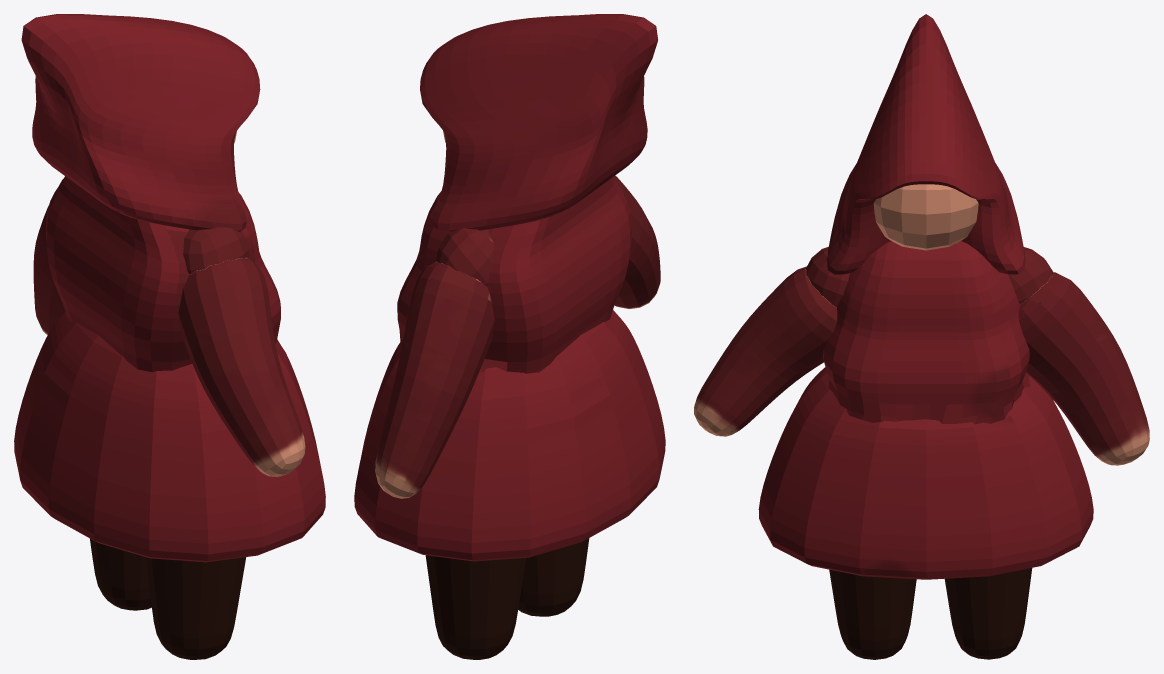
The model's file is MOŽIC .glb.
3 views of the same model, side by side, from view 1: azimuth 30°, elevation 25°; view 2: azimuth 150°, elevation 25°; view 3: azimuth 270°, elevation 25° (orthographic). The views are drawn at different scales.
Visible parts, largest first — view 1: telo, leva roka, leva noga, noga desna, desna roka; view 2: telo, desna roka, noga desna, leva noga, leva roka; view 3: telo, desna roka, leva roka, noga desna, leva noga.
Part boxes in pixels (<box>): telo: <box>14,14,325,562</box>; leva roka: <box>178,227,305,476</box>; leva noga: <box>145,557,246,659</box>; noga desna: <box>90,538,151,610</box>; desna roka: <box>33,179,65,334</box>; telo: <box>354,14,665,561</box>; desna roka: <box>375,227,494,498</box>; noga desna: <box>425,555,526,659</box>; leva noga: <box>518,538,589,616</box>; leva roka: <box>613,175,660,308</box>; telo: <box>758,14,1093,579</box>; desna roka: <box>1008,247,1149,465</box>; leva roka: <box>694,247,849,436</box>; noga desna: <box>944,568,1032,659</box>; leva noga: <box>829,569,916,659</box>.
Bounding box in the file's own units: 2.04 × 4.69 × 3.32.
5 materials, 5 textured.
